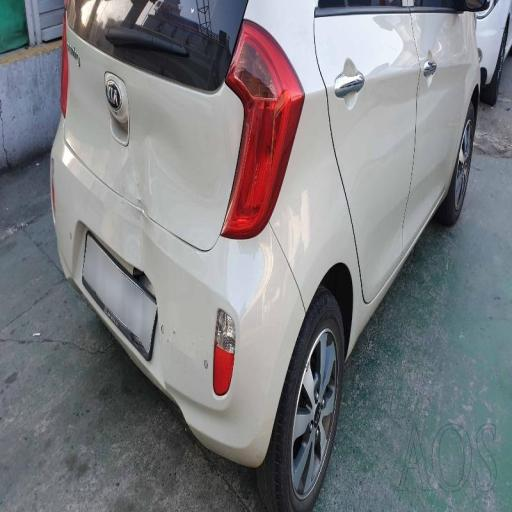dent: (86, 92, 222, 340)
